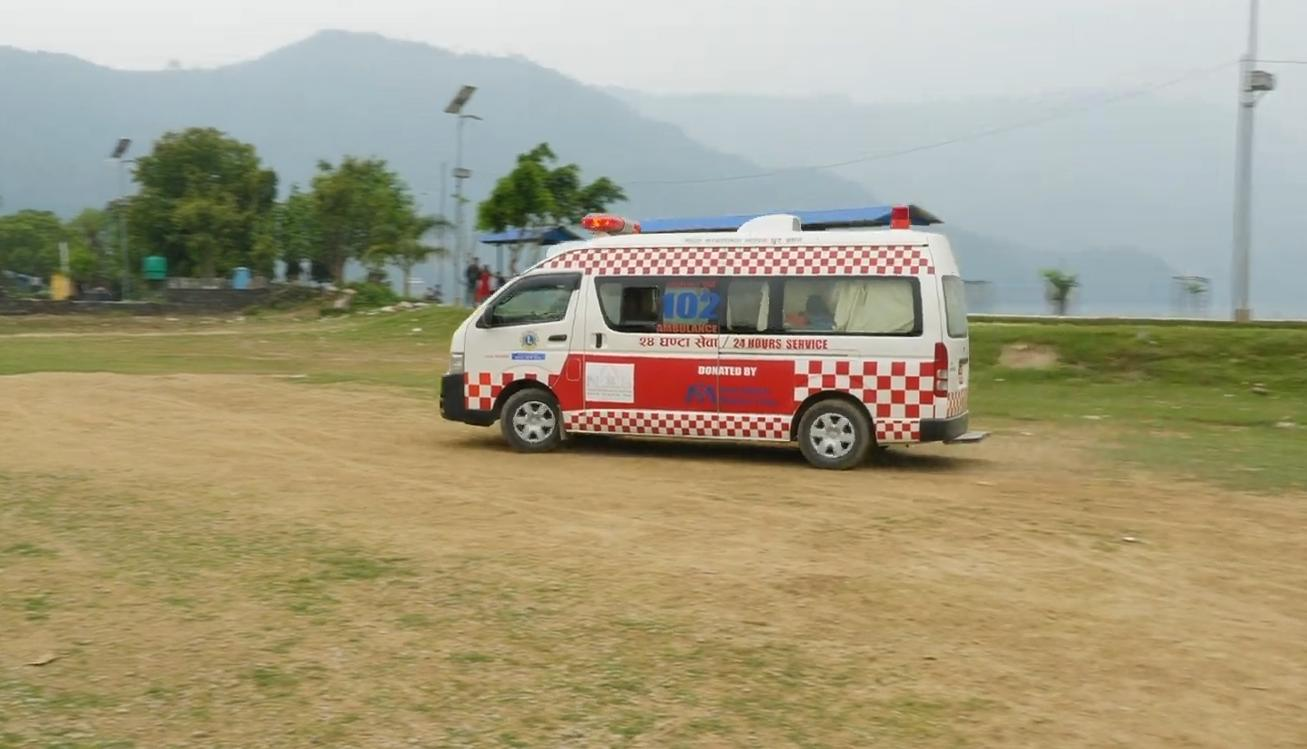ambulance: (427, 202, 1006, 467)
